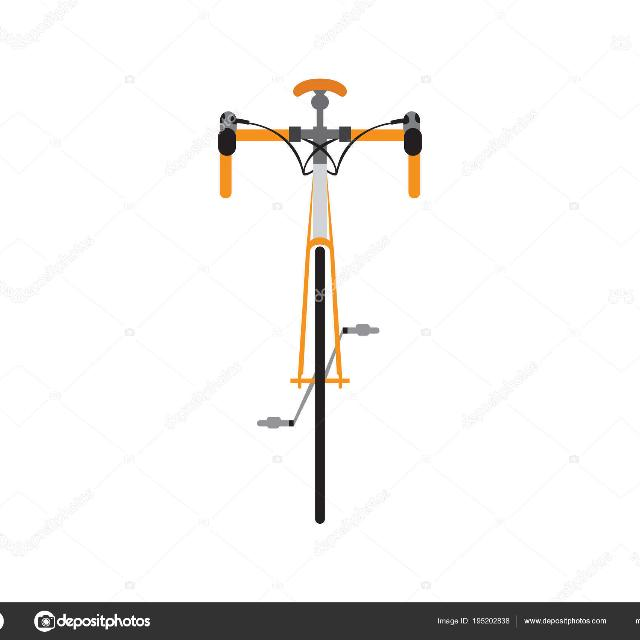obstacle: (199, 55, 446, 548)
